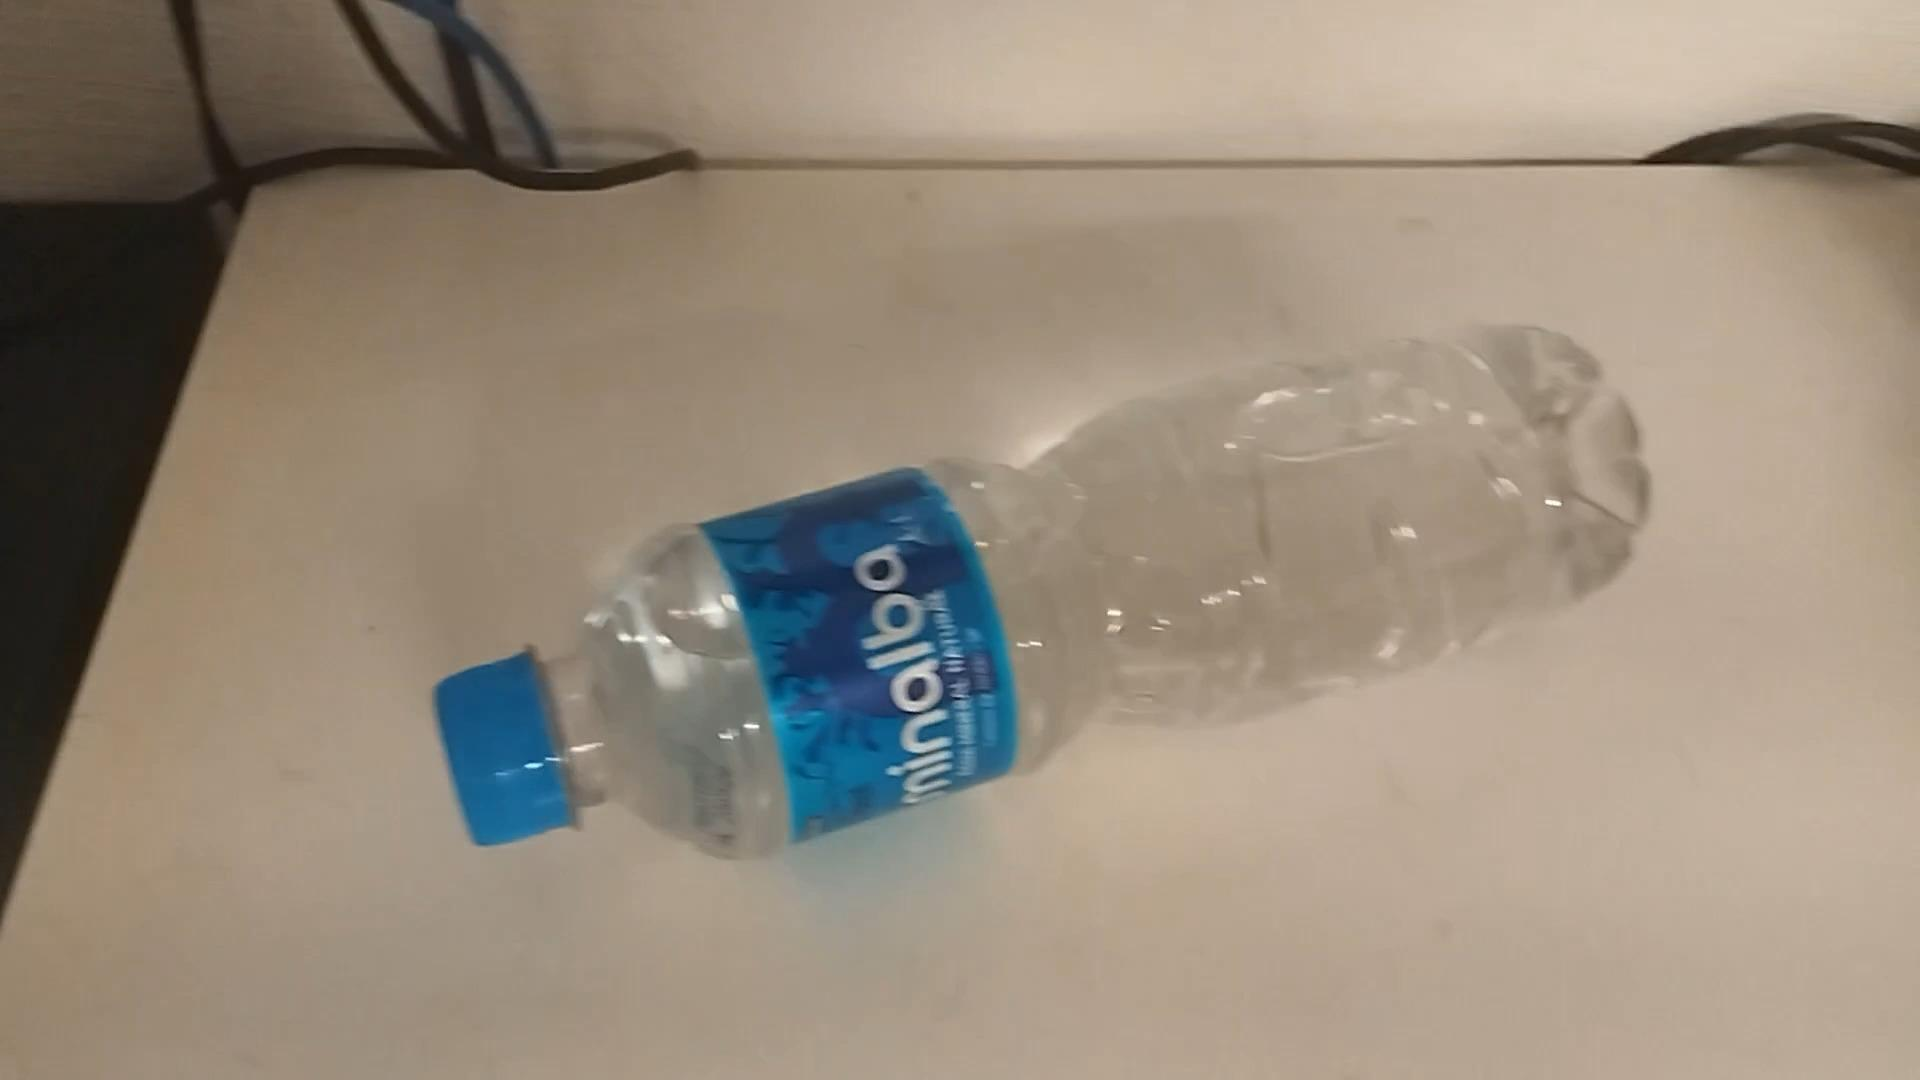agua: (448, 335, 1614, 860)
